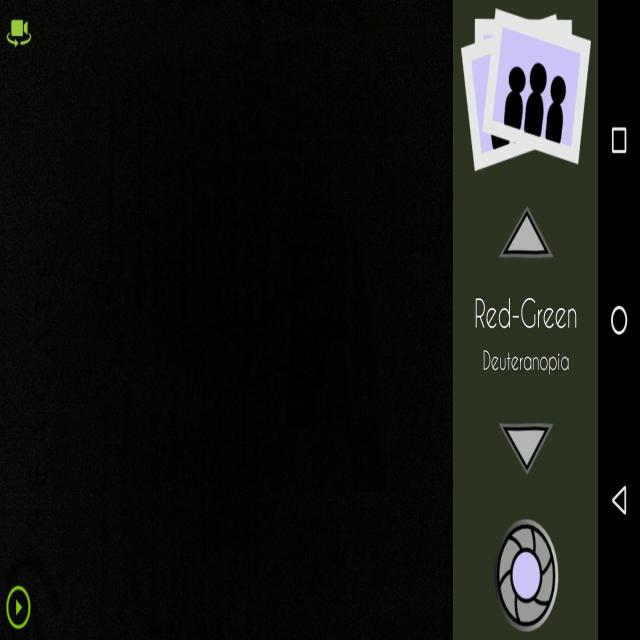forced continuity: (214, 286, 350, 389)
